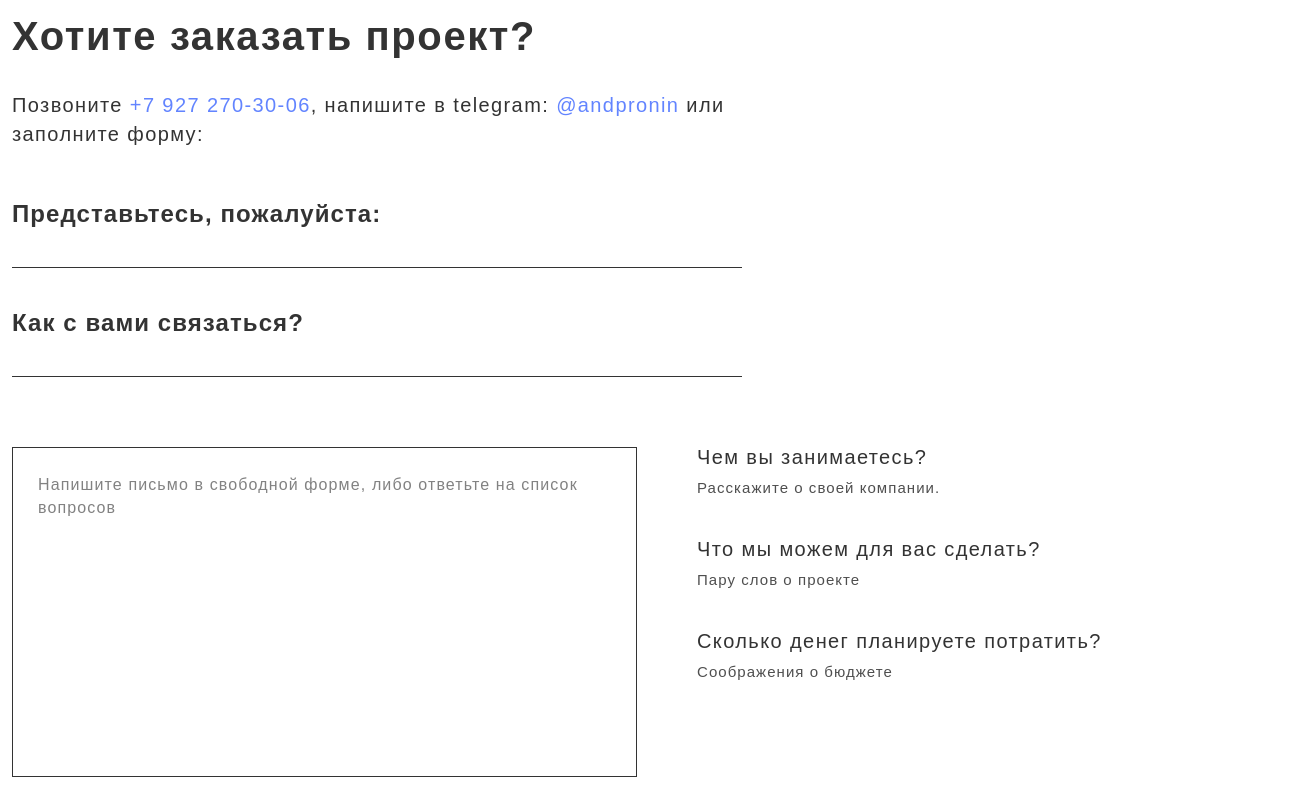
Test: Communicate Input › is more than 20 chars
In the field with test id "communicateInput": x=377, y=343 [12,308,742,377], type "Lorem ipsum dolor si amet"
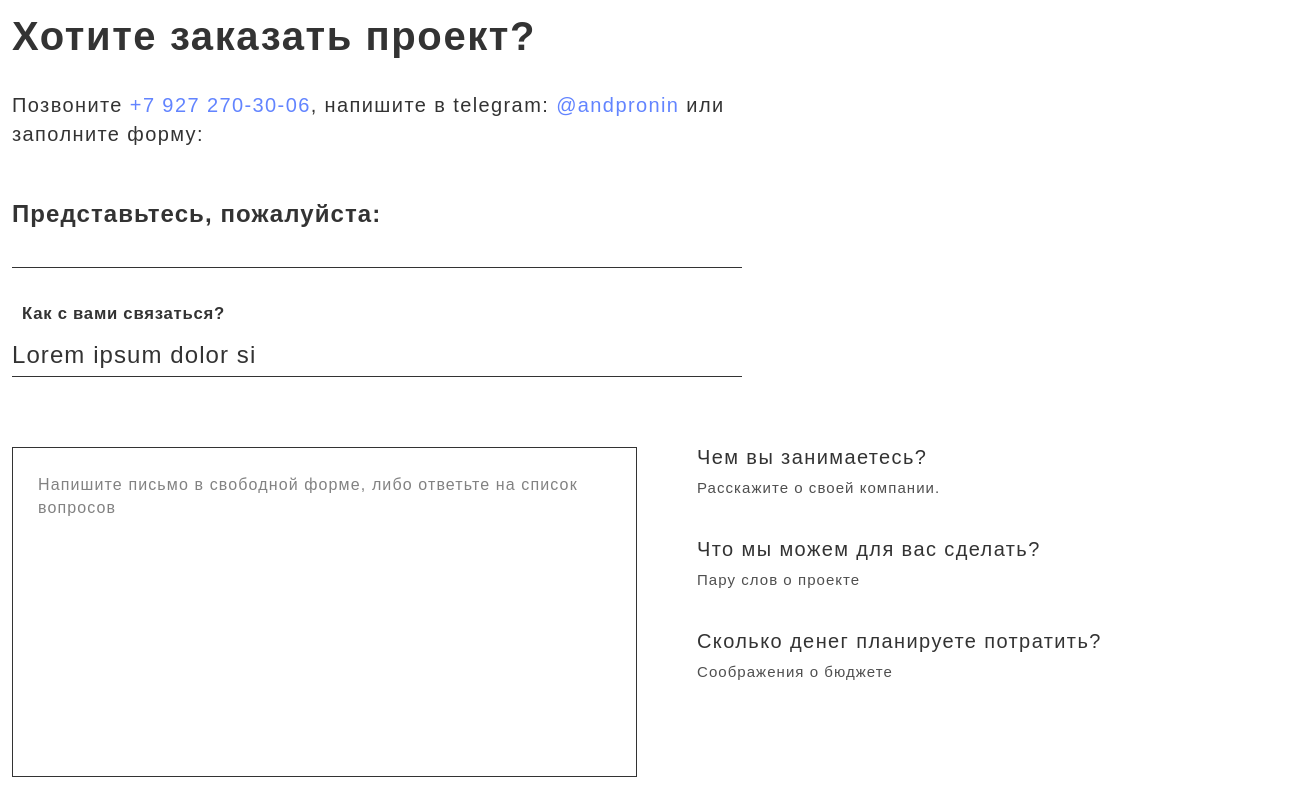
Now the field with test id "communicateInput" holds "Lorem ipsum dolor si", box [12,308,742,377]
